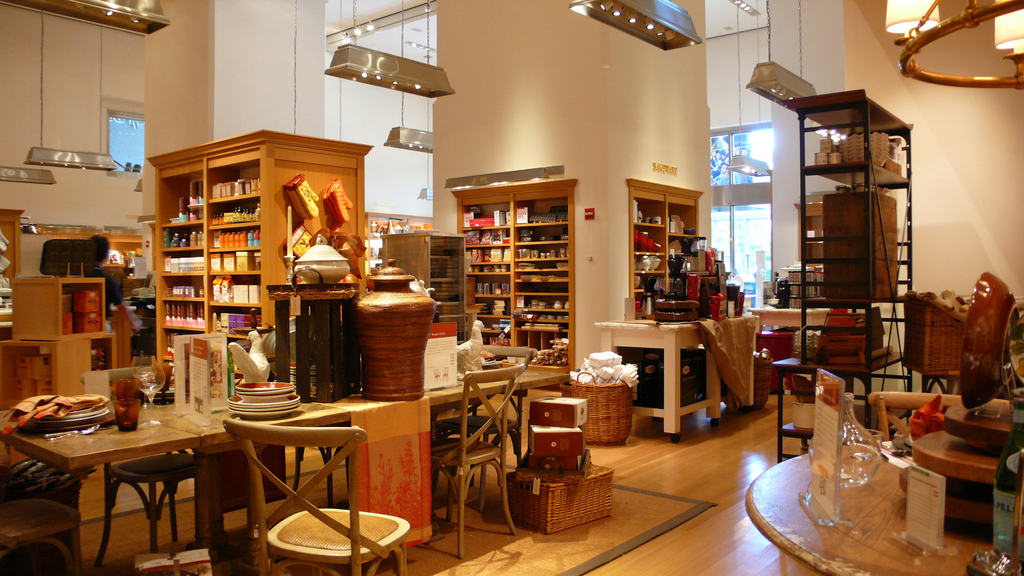Cabinetry: (136, 136, 372, 410), (0, 275, 134, 431)
